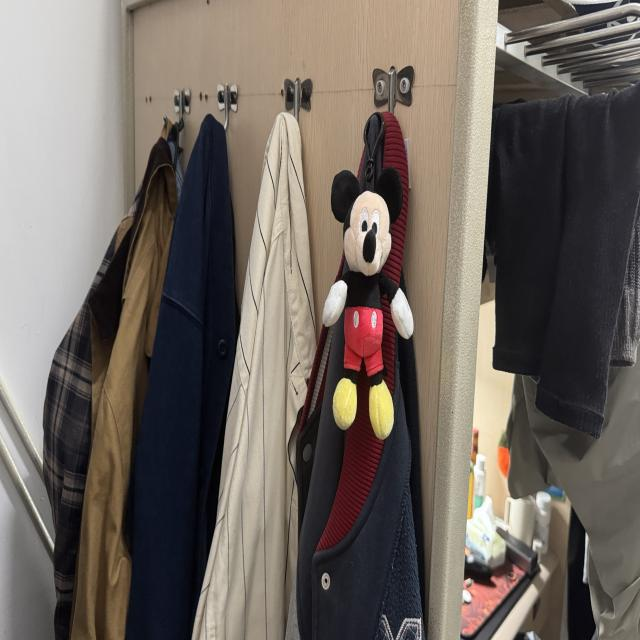mickey: (323, 168, 413, 439)
